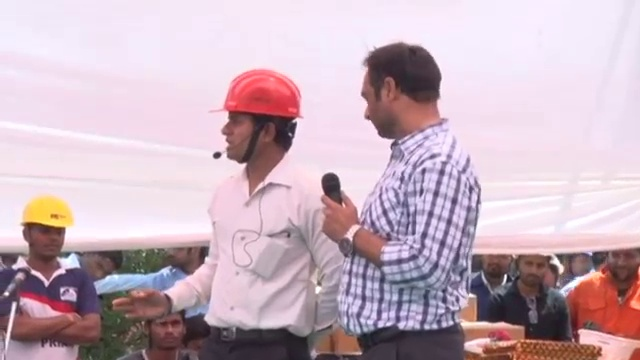helmet: (204, 74, 312, 132), (19, 199, 73, 231)
helmet_off: (363, 41, 448, 143), (139, 312, 186, 360), (515, 253, 557, 293), (75, 251, 122, 284), (604, 247, 640, 284), (162, 245, 206, 274), (481, 252, 512, 284), (568, 250, 595, 279)
helmet_on: (205, 72, 312, 176), (17, 196, 74, 266)
person: (118, 74, 337, 360), (316, 37, 492, 360), (0, 196, 104, 360), (490, 256, 575, 337), (568, 249, 640, 336), (463, 254, 516, 319)
